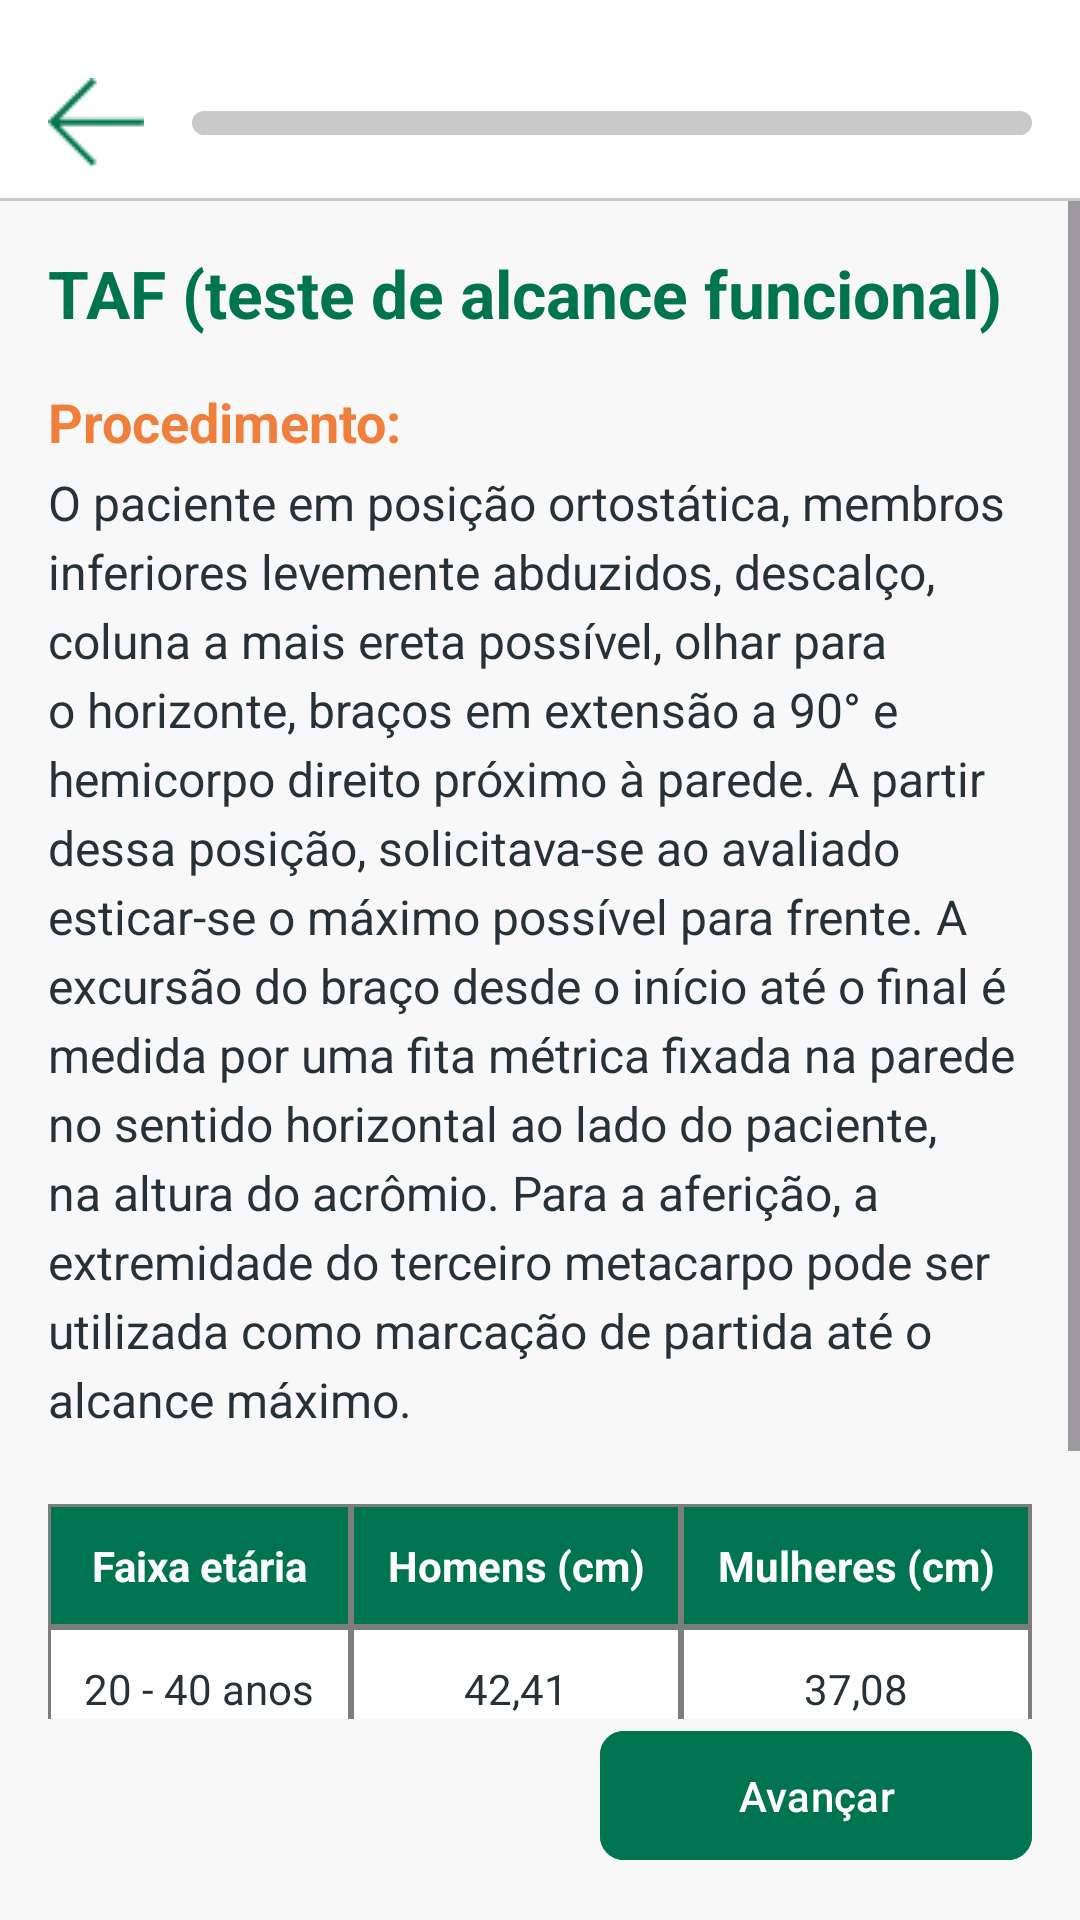

Where icons sit on this 1080*1920 app screen, as detection(x1, y1, x2, y2):
Voltar: detection(48, 78, 144, 166)
